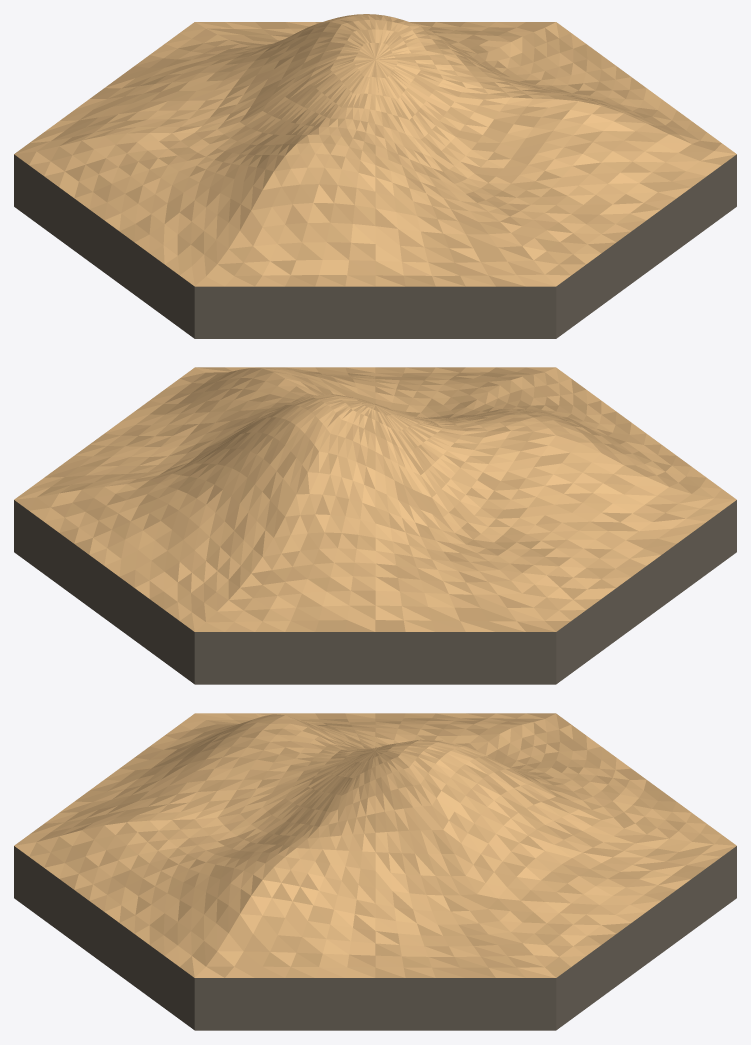
The model's file is TERRAIN_DESERT_HILLS_v01.fbx.
3 renders of one model, top to bottom at view 1: azimuth 30°, elevation 25°; view 2: azimuth 150°, elevation 25°; view 3: azimuth 270°, elevation 25°, orthographic.
Visible parts, largest first — view 1: TERRAIN_DESERT_HILLS_v01; view 2: TERRAIN_DESERT_HILLS_v01; view 3: TERRAIN_DESERT_HILLS_v01.
Boxes of the visible parts, bbox=[...] form: TERRAIN_DESERT_HILLS_v01: bbox=[14, 14, 736, 338]; TERRAIN_DESERT_HILLS_v01: bbox=[14, 367, 736, 684]; TERRAIN_DESERT_HILLS_v01: bbox=[14, 713, 736, 1030].
Size of the model in its own units: 173 by 49.43 by 200.
